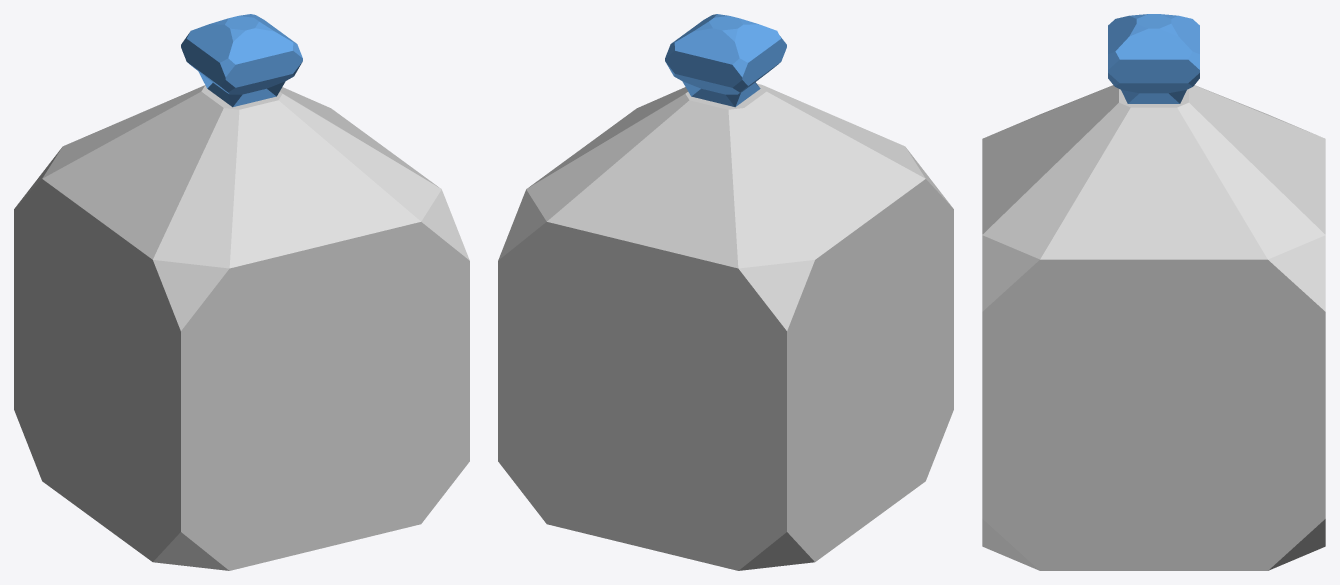
File: Potion (1).fbx
The picture shows the model from 3 angles, left to right: view 1: azimuth 30°, elevation 25°; view 2: azimuth 150°, elevation 25°; view 3: azimuth 270°, elevation 25°; orthographic projection. The views are drawn at different scales.
Visible parts, largest first — view 1: Body, TopDoor; view 2: Body, TopDoor; view 3: Body, TopDoor.
Boxes of the visible parts, x1,y1,x2,y2 form: Body: (14,85,469,570); TopDoor: (181,14,302,107); Body: (498,83,953,570); TopDoor: (665,14,786,107); Body: (982,85,1325,570); TopDoor: (1108,14,1199,103).
Bounding box in the file's own units: 20 × 30.64 × 20.
